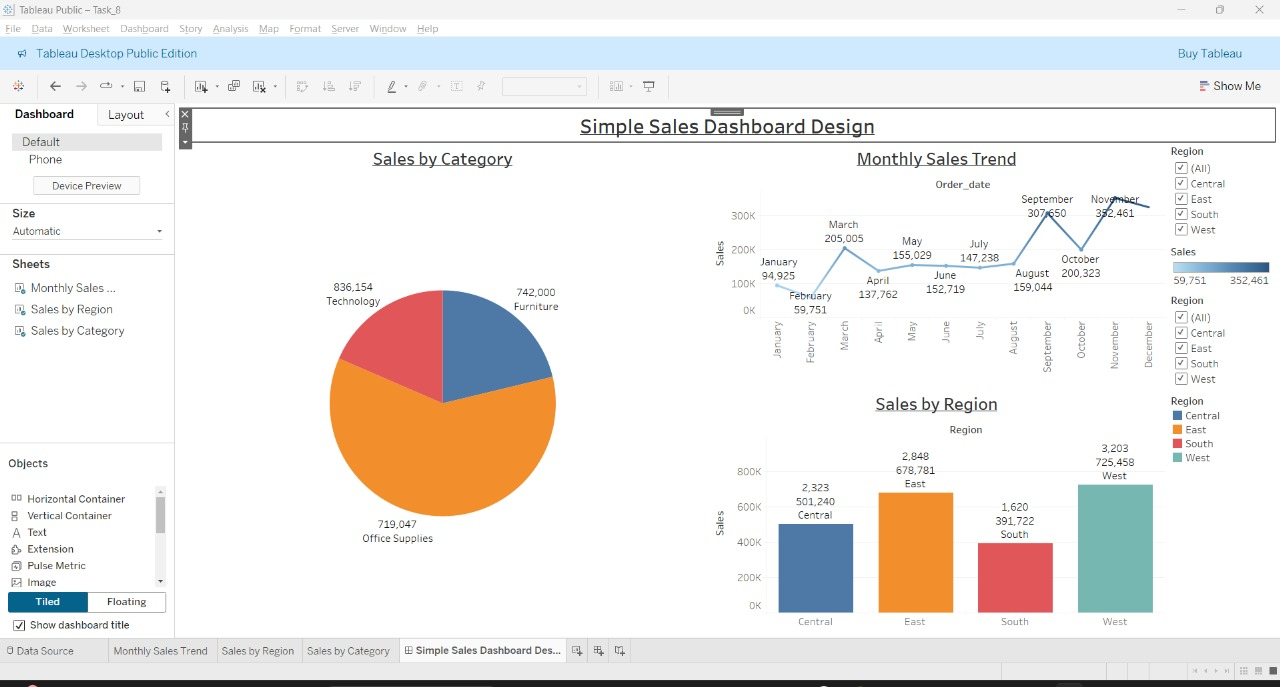

The page's visual inventory and layout, read from the dashboard file:
{"tool":"tableau","page":{"name":"Simple Sales Dashboard Design","canvas":[1000,1000],"units":"permille","ordinal":0},"visuals":[{"type":"title","box":[4.8,10,990.3,61.2]},{"type":"worksheet","title":"Sales by Category","mark":"Pie","box":[4.8,71.2,474.9,918.8]},{"type":"worksheet","title":"Monthly Sales Trend","mark":"Automatic","rows":["Sales"],"cols":["Calculation_2173831245752139778"],"box":[479.8,71.2,418.8,459.4]},{"type":"filter","title":"Monthly Sales Trend","param":"[federated.0v7lwi11g7rici189rf2g0o7dj5g].[none:Region:nk]","box":[898.6,71.2,96.6,188.5]},{"type":"legend","title":"Monthly Sales Trend","param":"[federated.0v7lwi11g7rici189rf2g0o7dj5g].[sum:Sales:qk]","box":[898.6,259.7,96.6,91.1]},{"type":"filter","title":"Sales by Region","param":"[federated.0v7lwi11g7rici189rf2g0o7dj5g].[none:Region:nk]","box":[898.6,350.8,96.6,188.5]},{"type":"worksheet","title":"Sales by Region","mark":"Automatic","rows":["Sales"],"cols":["Region"],"box":[479.8,530.6,418.8,459.4]},{"type":"legend","title":"Sales by Region","param":"[federated.0v7lwi11g7rici189rf2g0o7dj5g].[none:Region:nk]","box":[898.6,539.4,96.6,142.3]}]}

Visuals, with their boxes on the dashboard's canvas, which has no fixed pixel size, in thousandths of its width and height (x1, y1, x2, y2). These are canvas units, not pixel positions in the 1280x687 screenshot, which may show the page scaled, cropped or inside an application window:
title: pyautogui.locateOnScreen(5, 10, 995, 71)
"Sales by Category" worksheet (Pie marks): pyautogui.locateOnScreen(5, 71, 480, 990)
"Monthly Sales Trend" worksheet: pyautogui.locateOnScreen(480, 71, 899, 531)
"Monthly Sales Trend" filter: pyautogui.locateOnScreen(899, 71, 995, 260)
"Monthly Sales Trend" legend: pyautogui.locateOnScreen(899, 260, 995, 351)
"Sales by Region" filter: pyautogui.locateOnScreen(899, 351, 995, 539)
"Sales by Region" worksheet: pyautogui.locateOnScreen(480, 531, 899, 990)
"Sales by Region" legend: pyautogui.locateOnScreen(899, 539, 995, 682)
